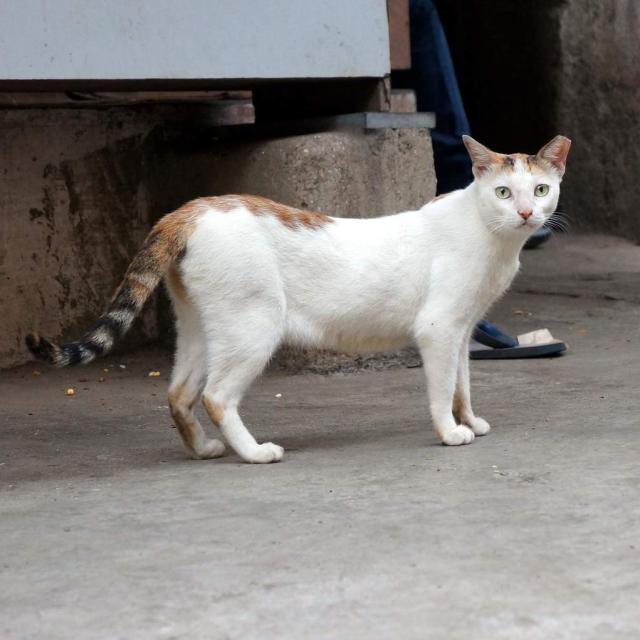Cat: (27, 136, 577, 463)
